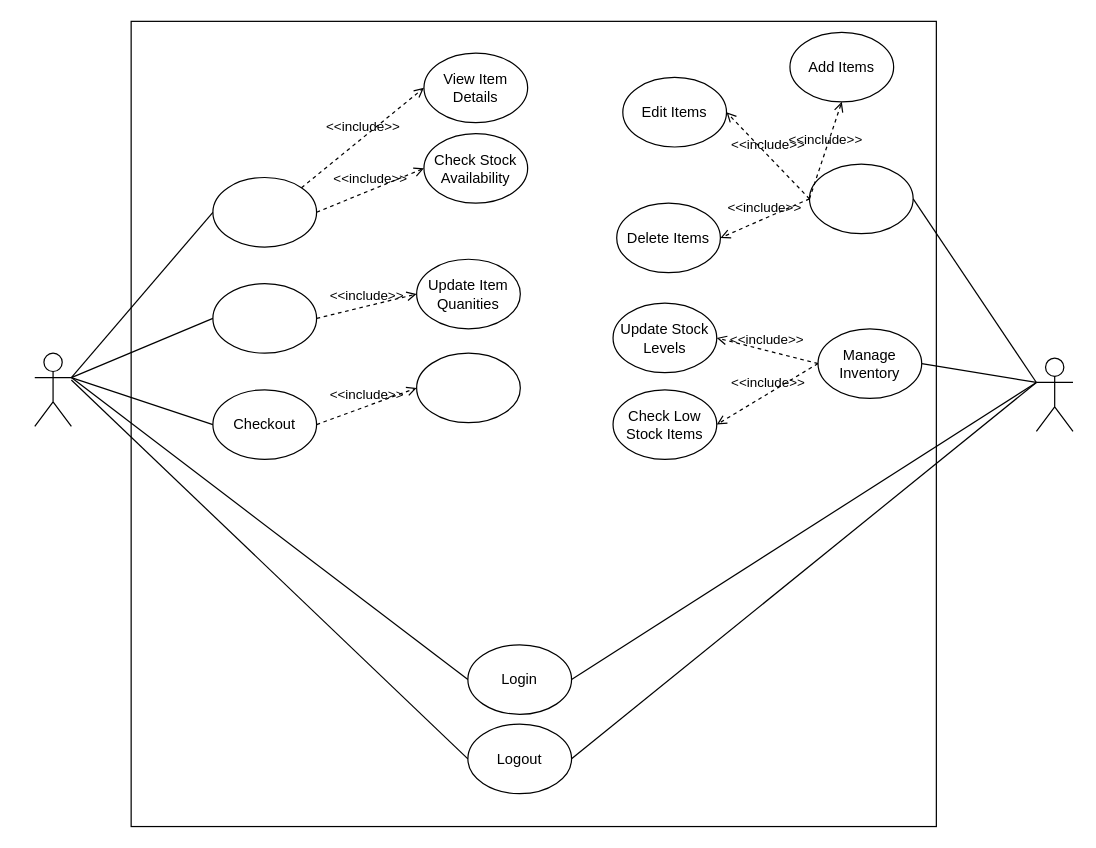
Image size: 1096x848. Some labels were removed from this diagram. The box of each missing label's shape, as (x1, y1, x2, y2) in pixels:
Add Item to Cart: (212, 282, 317, 353)
Admin: (1035, 357, 1073, 431)
Browse Menu: (212, 176, 317, 247)
Customer: (34, 352, 71, 426)
Manage Menu: (808, 163, 913, 234)
Payment Method: (415, 352, 520, 423)
